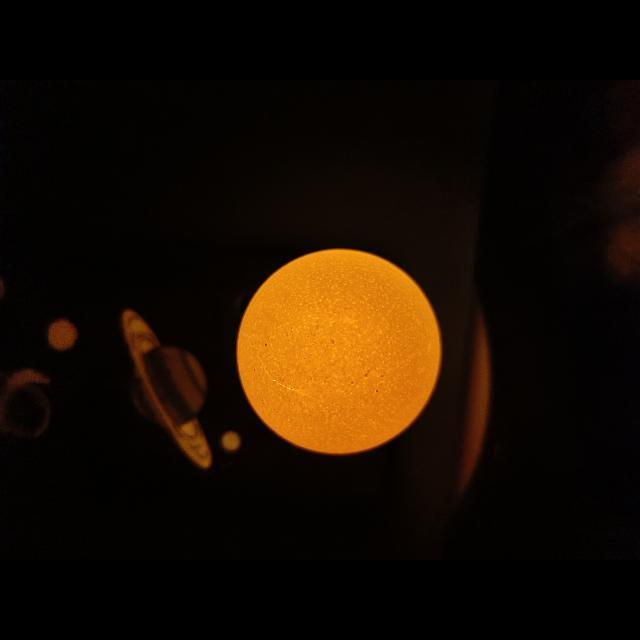AA - Premium: (236, 249, 441, 454)
